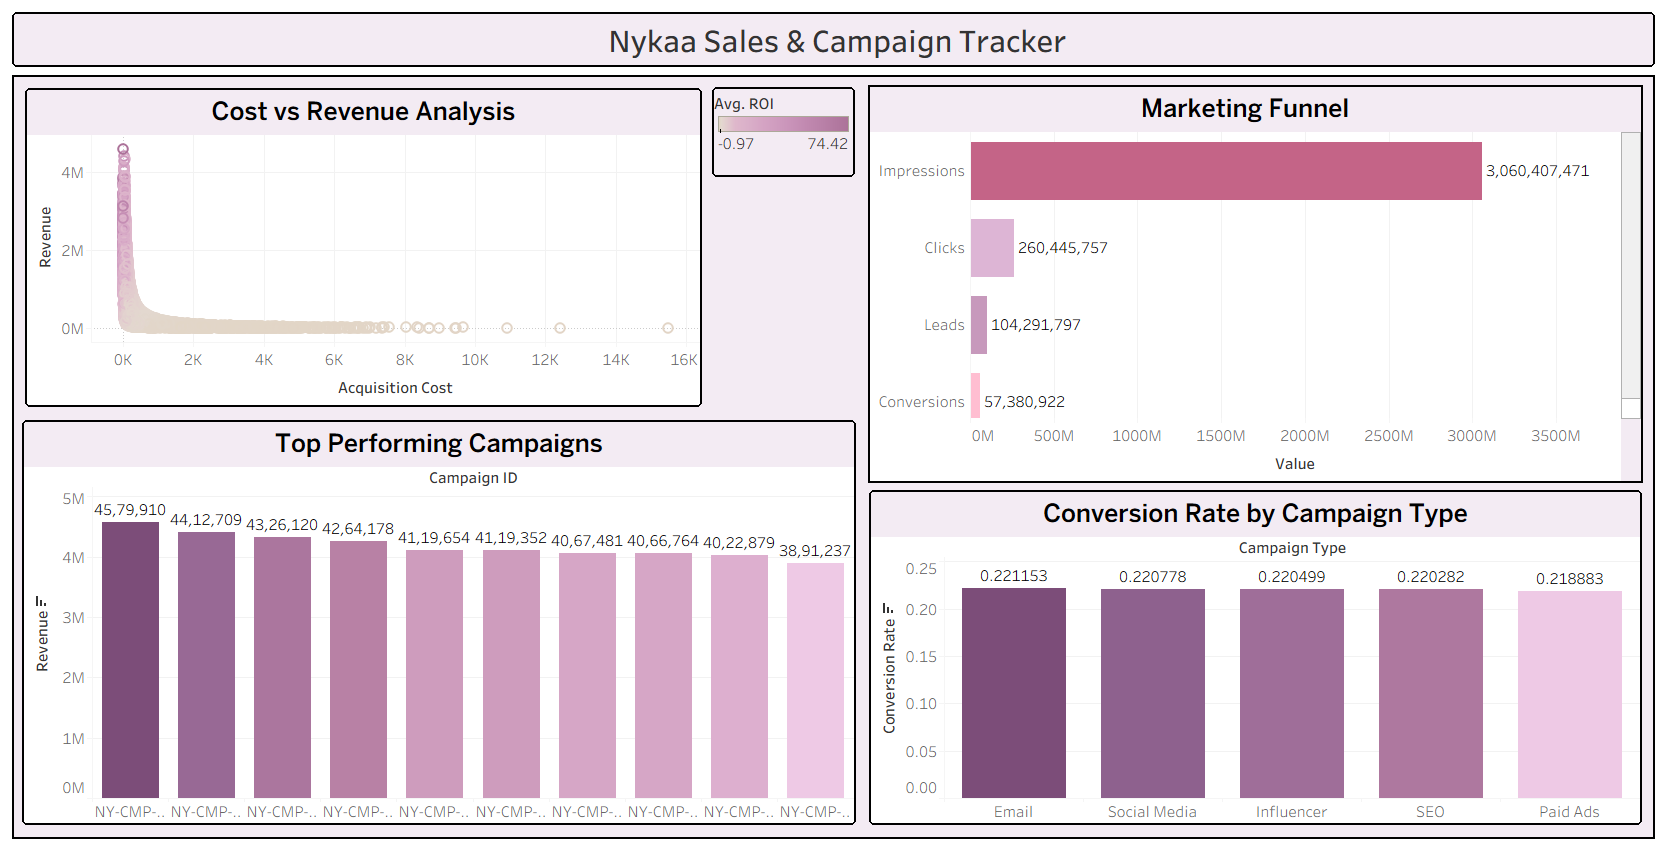

The page's visual inventory and layout, read from the dashboard file:
{"tool":"tableau","page":{"name":" Cost And Marketing","canvas":[1667,851],"ordinal":0},"visuals":[{"type":"title","box":[8,8,1651,63]},{"type":"worksheet","title":"Marketing Funnel","mark":"Bar","box":[868,85,775,398]},{"type":"worksheet","title":"Cost vs Revenue Analysis","mark":"Automatic","rows":["Revenue"],"cols":["Acquisition_Cost"],"box":[23,86,681,323]},{"type":"legend","title":"Cost vs Revenue Analysis","param":"[federated.0dbzb550hmlti41asscz91iqgi02].[avg:ROI:qk]","box":[712,87,143,90]},{"type":"worksheet","title":"Top Performing Campaigns","mark":"Automatic","rows":["Revenue"],"cols":["Campaign_ID"],"box":[22,420,834,405]},{"type":"worksheet","title":"Conversion Rate by Campaign Type","mark":"Automatic","rows":["Calculation_1817767658795012"],"cols":["Campaign_Type"],"box":[869,490,773,335]}]}

Visuals, with their boxes in screenshot pixels (x1, y1, x2, y2), scaled from the page's 1667x851 canvas onto the 1667x851 screenshot:
title: Rect(8, 8, 1659, 71)
"Marketing Funnel" worksheet (Bar marks): Rect(868, 85, 1643, 483)
"Cost vs Revenue Analysis" worksheet: Rect(23, 86, 704, 409)
"Cost vs Revenue Analysis" legend: Rect(712, 87, 855, 177)
"Top Performing Campaigns" worksheet: Rect(22, 420, 856, 825)
"Conversion Rate by Campaign Type" worksheet: Rect(869, 490, 1642, 825)
